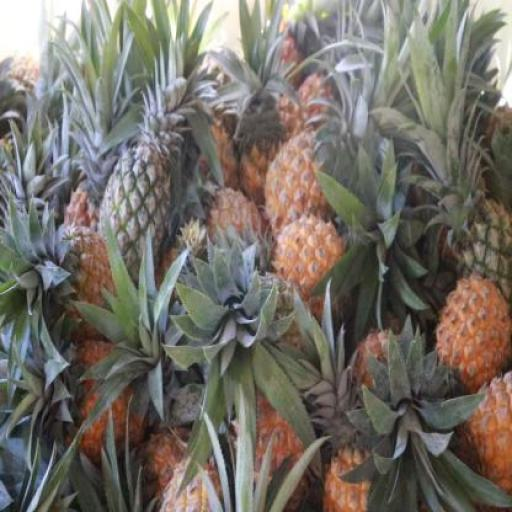Pineapple - v8 v1: (436, 279, 512, 394), (262, 142, 334, 244), (272, 220, 345, 308)
